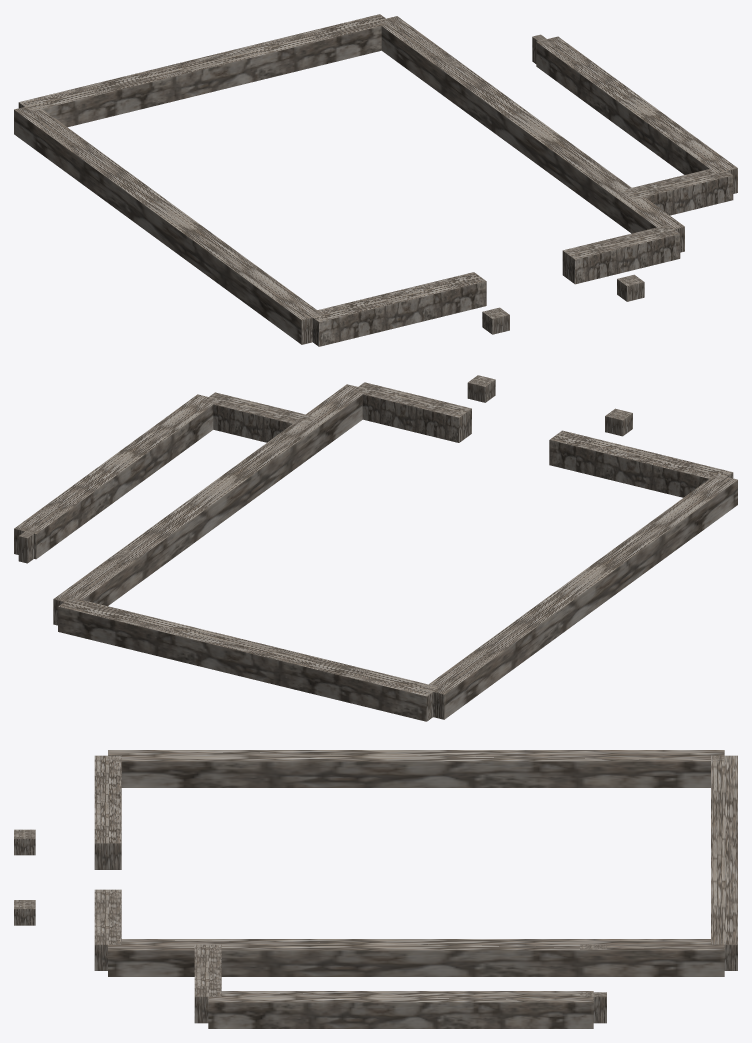
The model's file is BW_ElderCottage01_Foundation.fbx.
3 renders of one model, top to bottom at view 1: azimuth 30°, elevation 25°; view 2: azimuth 150°, elevation 25°; view 3: azimuth 270°, elevation 25°, orthographic. The views are drawn at different scales.
Visible parts, largest first — view 1: BW_ElderCottage01_Foundation; view 2: BW_ElderCottage01_Foundation; view 3: BW_ElderCottage01_Foundation.
Boxes of the visible parts, <box> form: BW_ElderCottage01_Foundation: <box>14,14,737,346</box>; BW_ElderCottage01_Foundation: <box>14,375,737,721</box>; BW_ElderCottage01_Foundation: <box>14,750,737,1028</box>.
Bounding box in the file's own units: 7.75 × 0.38 × 9.4.
